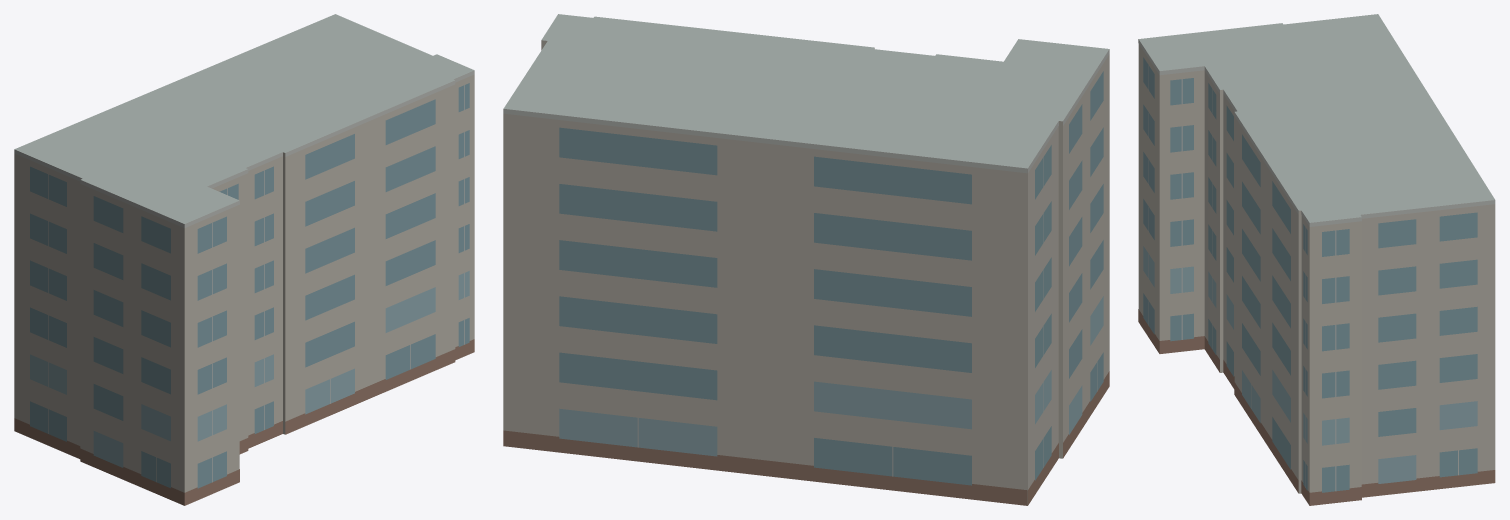
The model's file is survey-upis-32650921.glb.
3 renders of one model, left to right at view 1: azimuth 30°, elevation 25°; view 2: azimuth 150°, elevation 25°; view 3: azimuth 270°, elevation 25°, orthographic. The views are drawn at different scales.
Parts seen in each view (by area): view 1: survey-upis-32650921.tmp; view 2: survey-upis-32650921.tmp; view 3: survey-upis-32650921.tmp.
Boxes of the visible parts, bbox=[...] form: survey-upis-32650921.tmp: bbox=[14, 14, 474, 505]; survey-upis-32650921.tmp: bbox=[503, 14, 1109, 505]; survey-upis-32650921.tmp: bbox=[1138, 14, 1495, 505].
Size of the model in its own units: 26.77 by 16.9 by 19.33.
